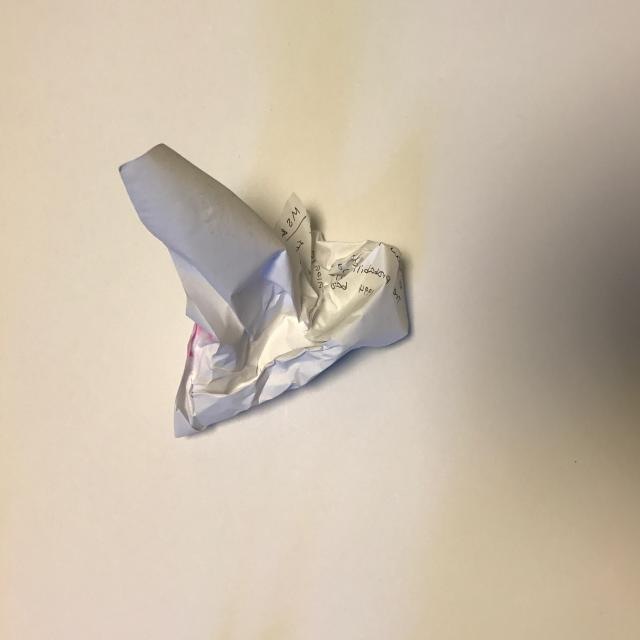paper: (101, 101, 444, 459)
